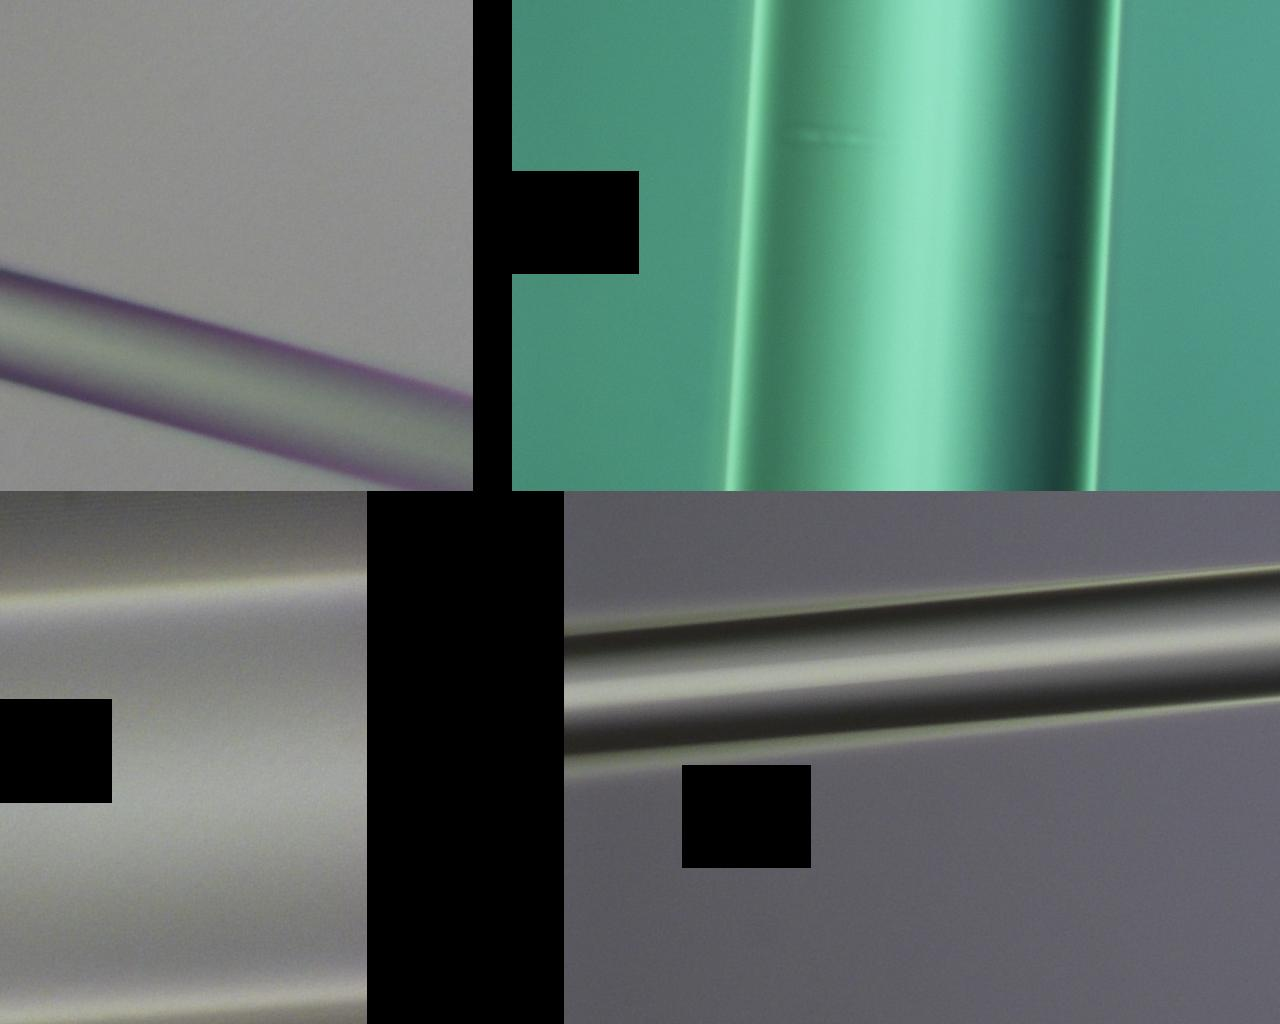fiber: (634, 0, 684, 1024)
